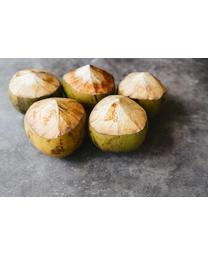coconut: (88, 94, 153, 158), (23, 97, 87, 158), (7, 68, 63, 114), (60, 65, 118, 106), (116, 70, 168, 111)
